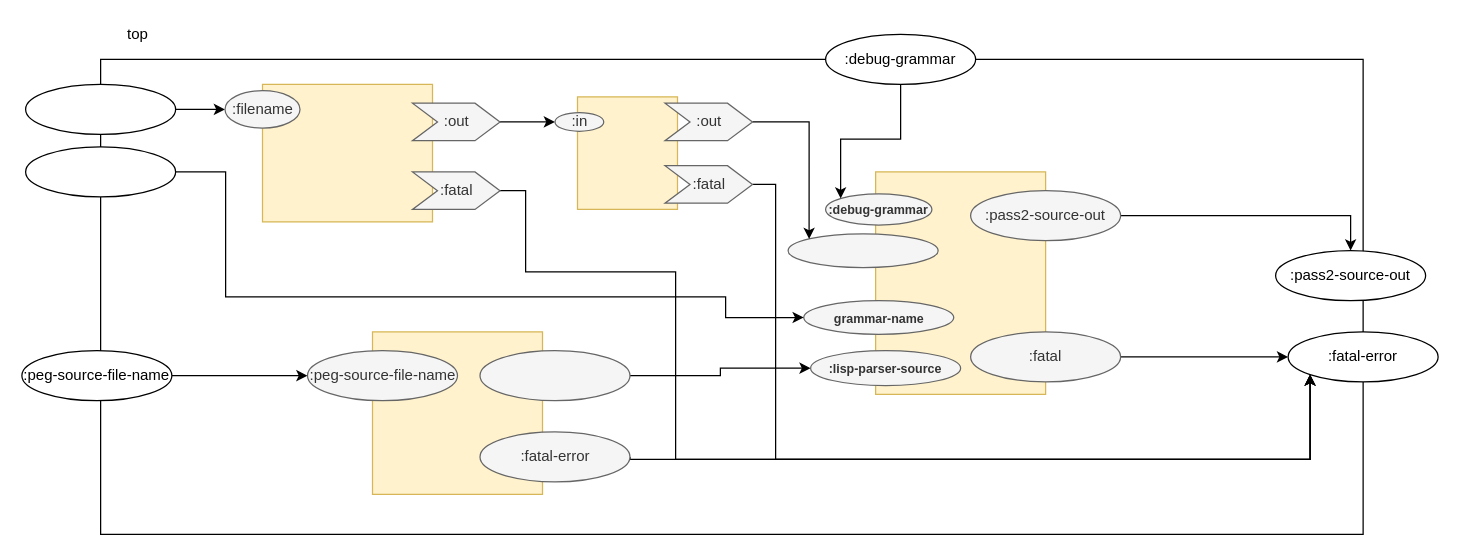
Some shapes in this 1460 by 556 pixel diagram are drawn without their labels. Each missing label, with the box of its shape:
:grammar-name: (24, 146, 176, 197)
:lisp-source-out: (479, 349, 630, 401)
:pseudo-source-file-name: (24, 83, 176, 134)
:source-to-be-parsed: (787, 232, 938, 268)
parser-builder: (371, 331, 542, 494)
pseudo-parser: (874, 171, 1046, 394)
readfile[read-file-into-string]: (261, 83, 432, 222)
sq[strip-quotes]: (576, 96, 678, 209)
